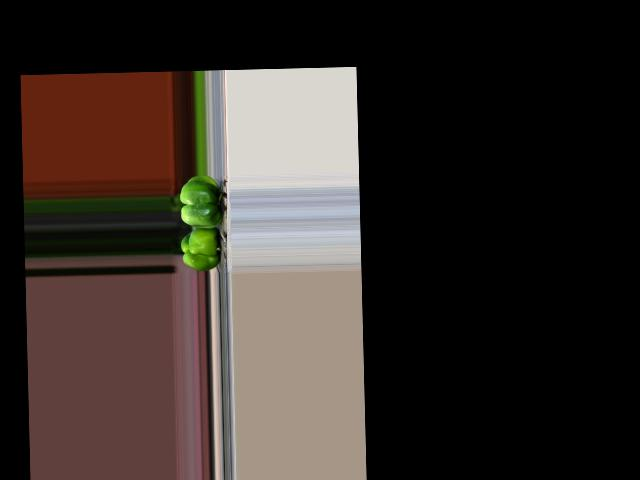bell_pepper: (178, 226, 223, 273)
